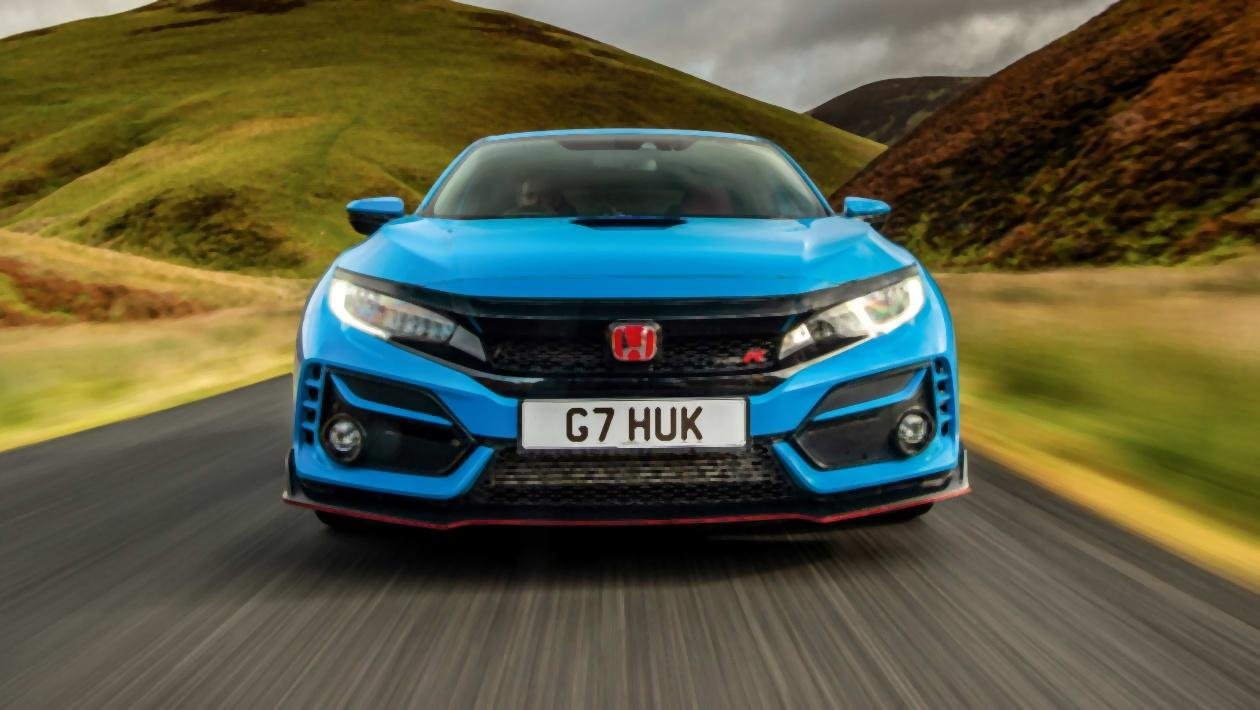Car hood: (340, 212, 914, 306)
Front bumper: (288, 317, 975, 537)
Headlight - -L-: (776, 255, 929, 388)
Headlight - -R-: (327, 266, 499, 371)
Side mirror - -L-: (841, 189, 893, 233)
Side mirror - -R-: (336, 195, 414, 234)
